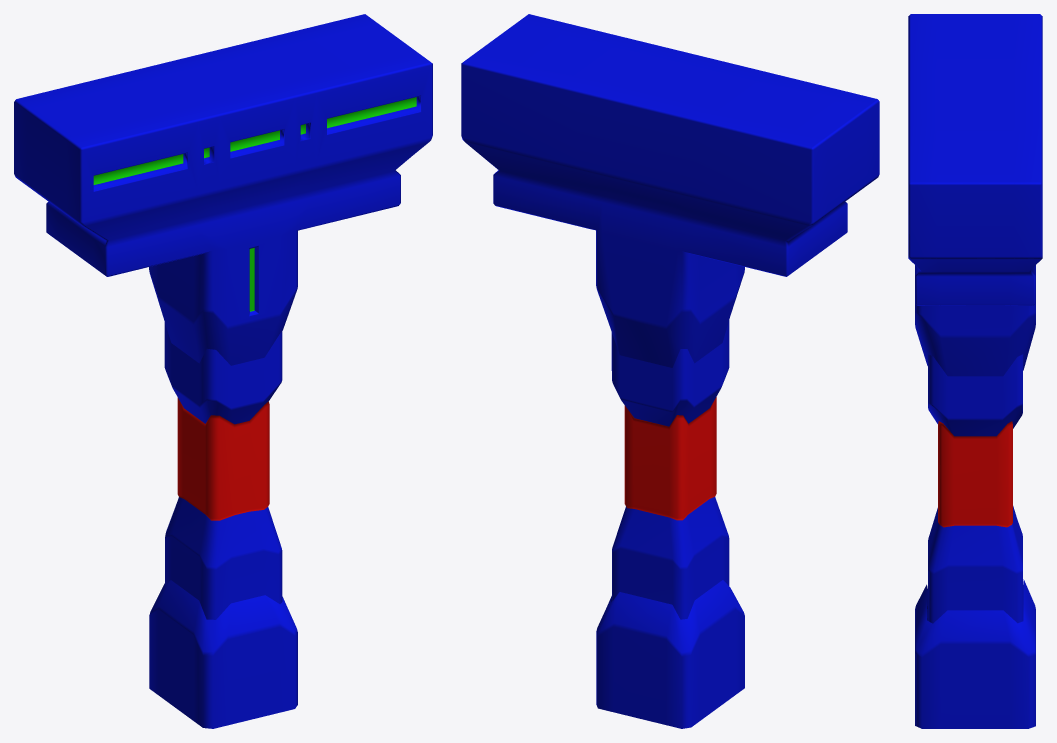
File: Pillar.fbx
3 views of the same model, side by side, from view 1: azimuth 30°, elevation 25°; view 2: azimuth 150°, elevation 25°; view 3: azimuth 270°, elevation 25° (orthographic).
Parts seen in each view (by area): view 1: Pillar; view 2: Pillar; view 3: Pillar.
Boxes of the visible parts, x1,y1,x2,y2 form: Pillar: (14,14,432,728); Pillar: (461,14,879,728); Pillar: (908,14,1042,728).
Size of the model in its own units: 300 by 500 by 100.
